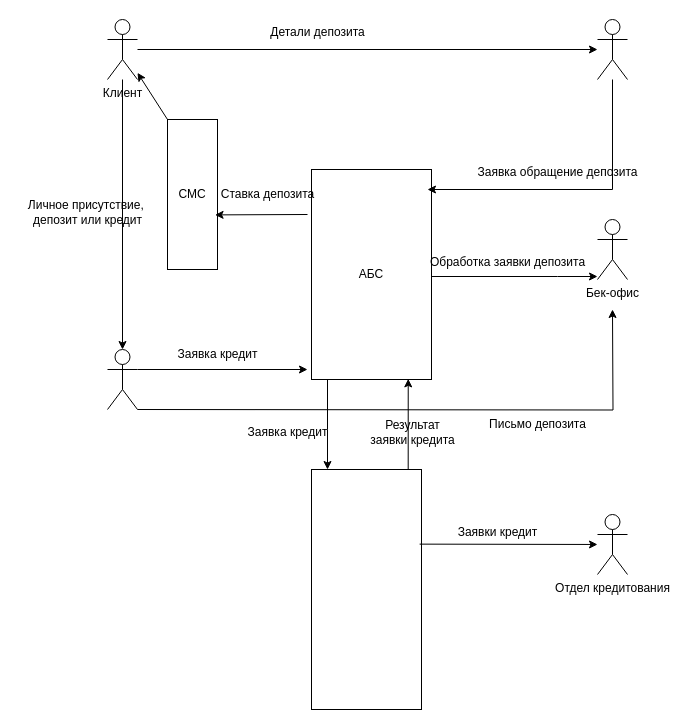
The diagram is 687 pixels wide and 727 high, and some of its shapes have lost their labels. The shapes that lost their labels are listed below. From the top down, each one's box as (x1, y1, x2, y2) in pixels, then its label:
(596, 18, 628, 80): Колл-центр
(106, 348, 138, 410): Менеджер отделения
(310, 468, 422, 710): Кредитный конвейр
